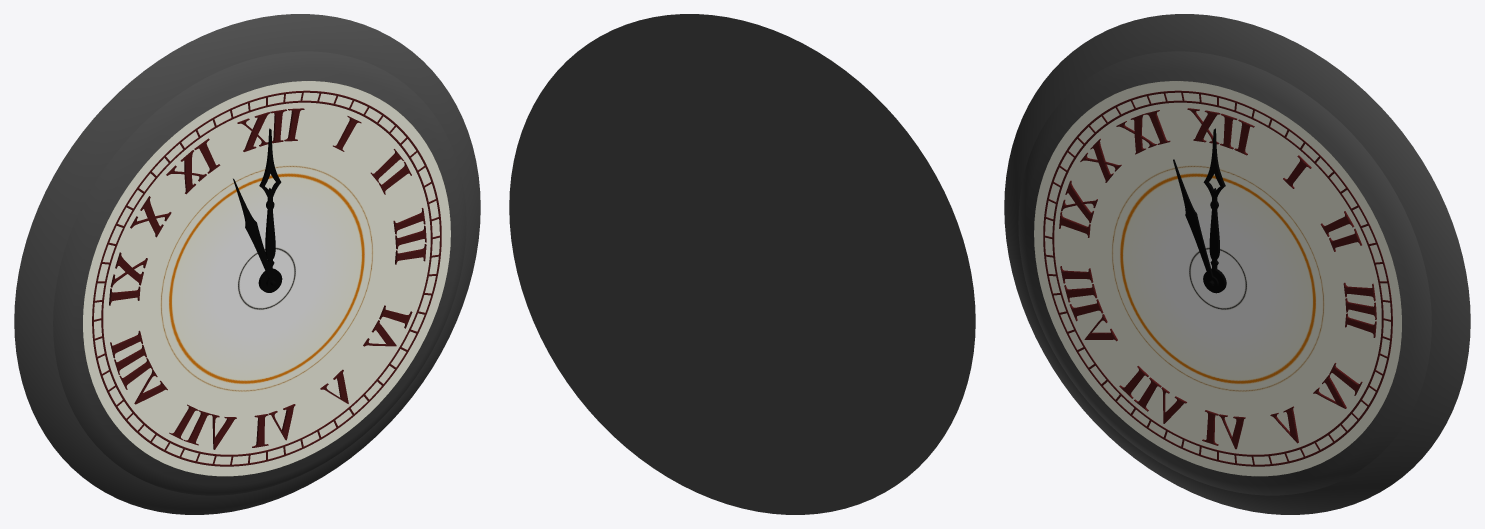
The model's file is Clock_L.fbx.
3 views of the same model, side by side, from view 1: azimuth 30°, elevation 25°; view 2: azimuth 150°, elevation 25°; view 3: azimuth 330°, elevation 25° (orthographic).
Parts seen in each view (by area): view 1: Clock_Face, Base, ROMAN, Long_Hand, Short_Hand; view 2: Base; view 3: Clock_Face, Base, ROMAN, Long_Hand, Short_Hand.
Boxes of the visible parts, x1,y1,x2,y2 form: Clock_Face: (83, 81, 450, 476); Base: (14, 14, 480, 514); ROMAN: (92, 90, 441, 466); Long_Hand: (258, 128, 282, 292); Short_Hand: (233, 178, 278, 288); Base: (509, 14, 975, 514); Clock_Face: (1034, 81, 1401, 476); Base: (1004, 14, 1470, 514); ROMAN: (1043, 90, 1392, 466); Long_Hand: (1203, 128, 1226, 293); Short_Hand: (1173, 159, 1218, 288).
Bounding box in the file's own units: 253 × 253 × 25.72.
Materials: 5 (1 with a texture image).
